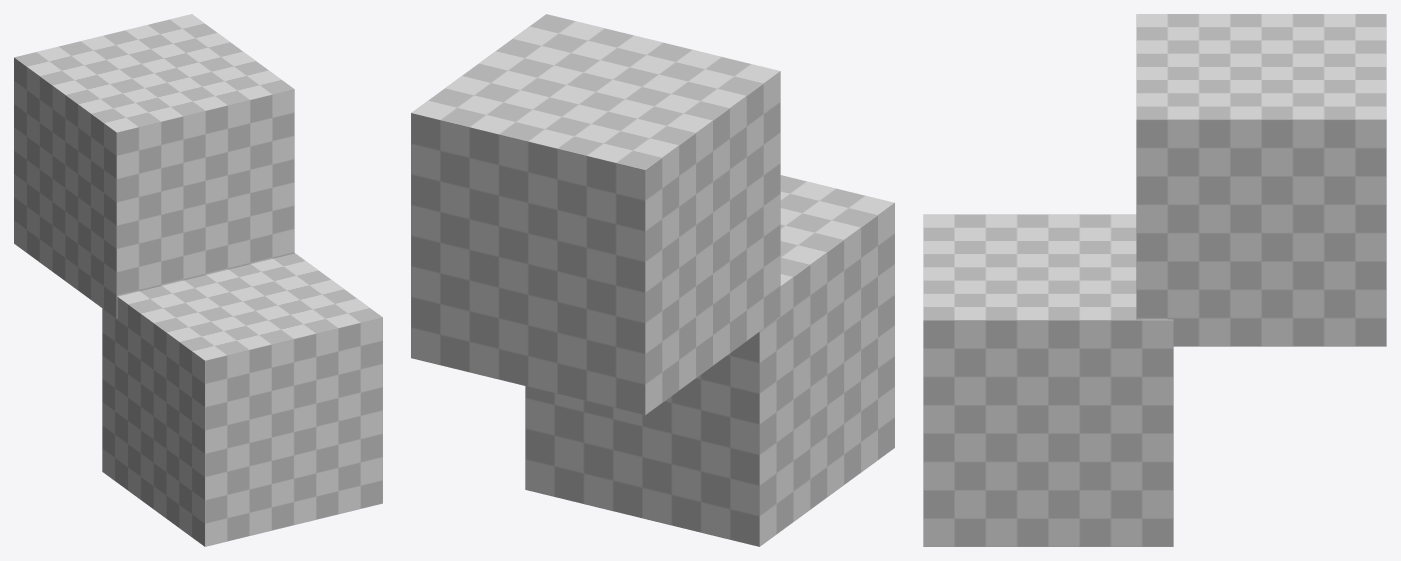
File: testing2.obj
The picture shows the model from 3 angles, left to right: view 1: azimuth 30°, elevation 25°; view 2: azimuth 150°, elevation 25°; view 3: azimuth 270°, elevation 25°; orthographic projection. The views are drawn at different scales.
Parts seen in each view (by area): view 1: cube, cube.001; view 2: cube.001, cube; view 3: cube.001, cube.
Boxes of the visible parts, x1,y1,x2,y2 form: cube: (102, 253, 382, 546); cube.001: (14, 14, 294, 318); cube.001: (411, 14, 780, 415); cube: (525, 175, 894, 546); cube.001: (1136, 14, 1386, 346); cube: (923, 214, 1173, 546).
Bounding box in the file's own units: 1 × 1.88 × 1.85.
